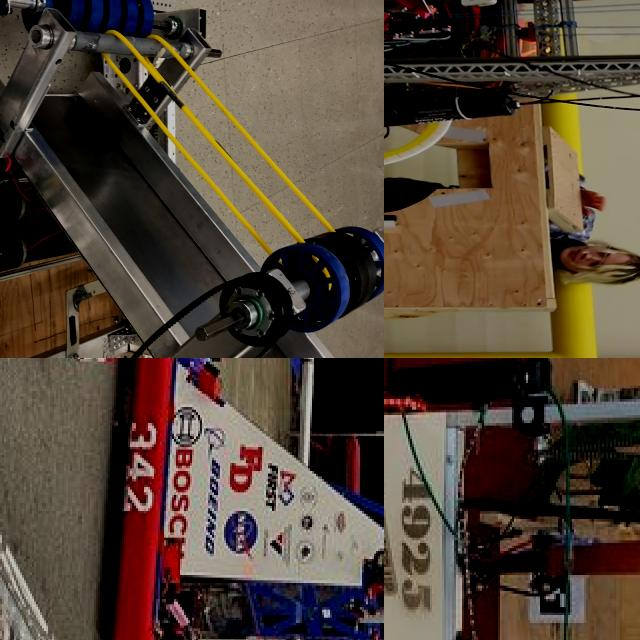FRC-Robots: (0, 0, 384, 358), (111, 358, 384, 640), (384, 358, 640, 640), (384, 0, 640, 254)
